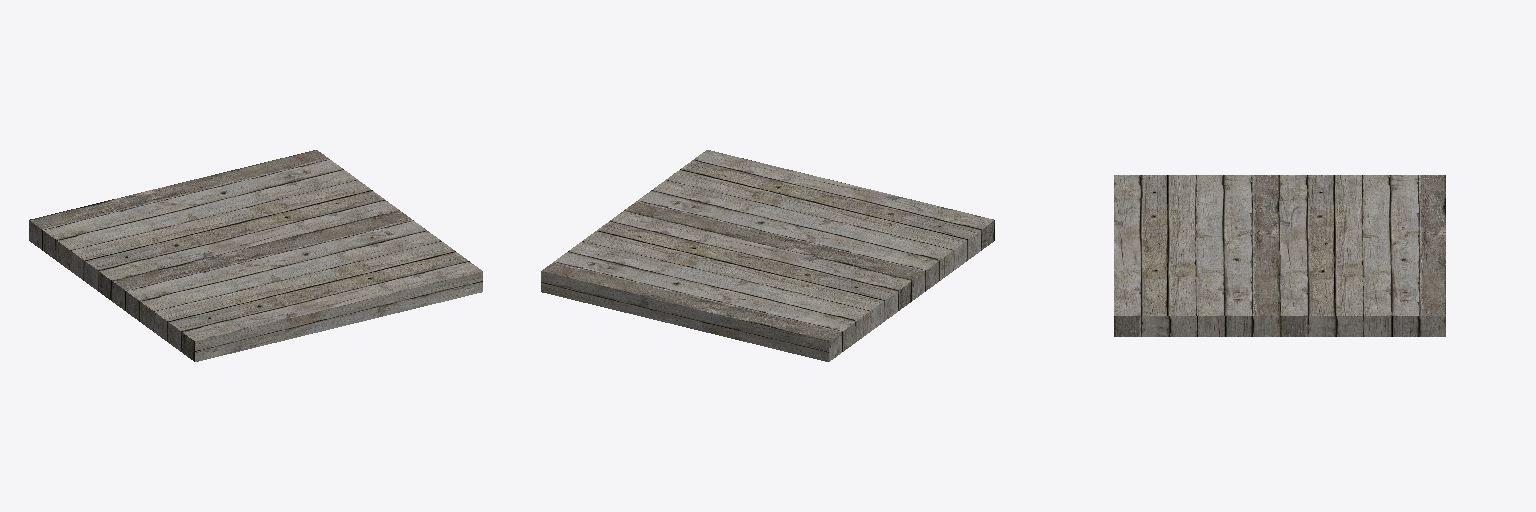
The picture shows the model from 3 angles: view 1: azimuth 30°, elevation 25°; view 2: azimuth 150°, elevation 25°; view 3: azimuth 270°, elevation 25°; orthographic projection.
Parts seen in each view (by area): view 1: Cube; view 2: Cube; view 3: Cube.
Boxes of the visible parts, x1=… form: Cube: x1=29, y1=150, x2=482, y2=361; Cube: x1=541, y1=150, x2=994, y2=361; Cube: x1=1114, y1=175, x2=1445, y2=336.
Bounding box in the file's own units: 2 × 0.1373 × 2.
Materials: 1 (1 with a texture image).